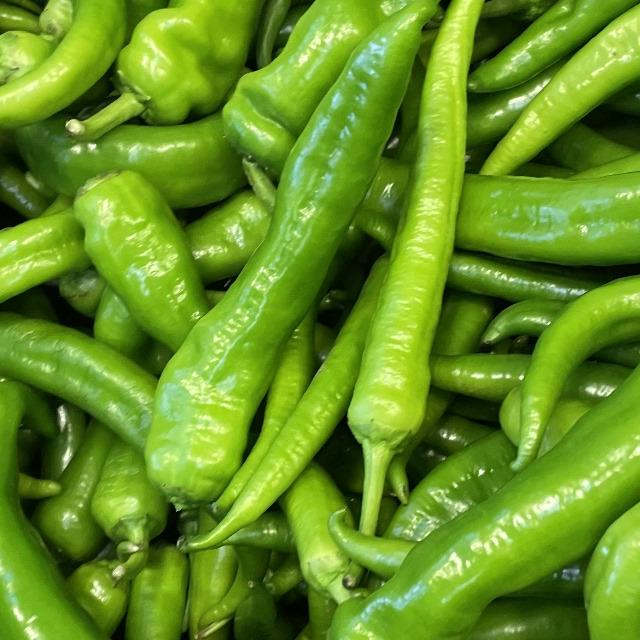chili_pepper: (135, 0, 462, 502), (297, 207, 640, 640), (332, 0, 525, 502), (0, 377, 310, 640)
